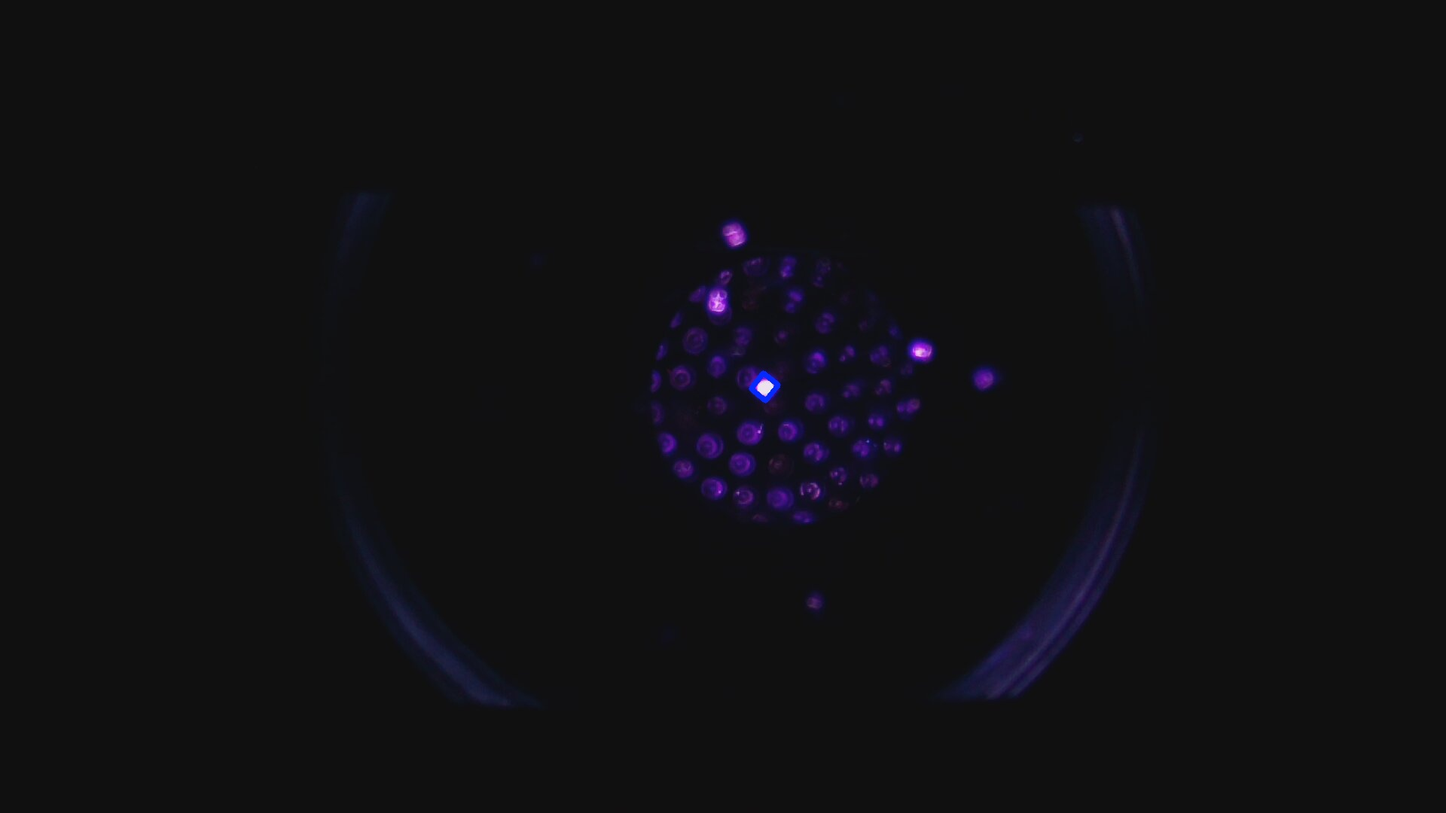plastic: (746, 368, 784, 406), (718, 216, 750, 250), (909, 339, 934, 362), (708, 289, 728, 312)
